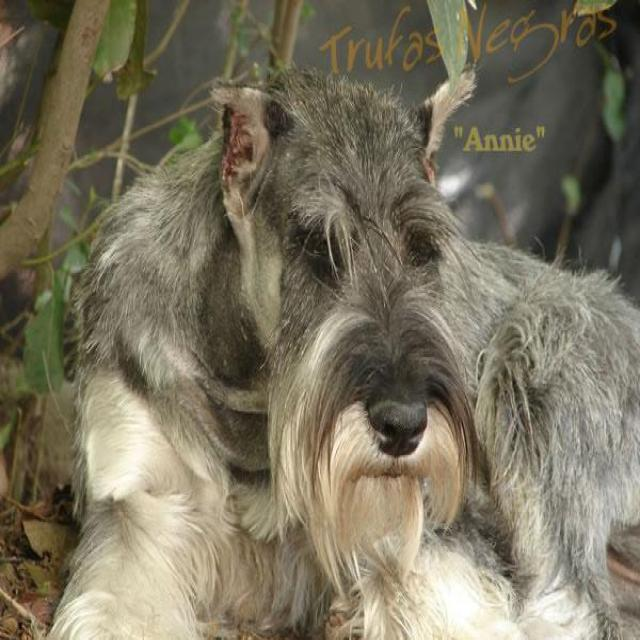standard_schnauzer: (46, 64, 638, 637)
